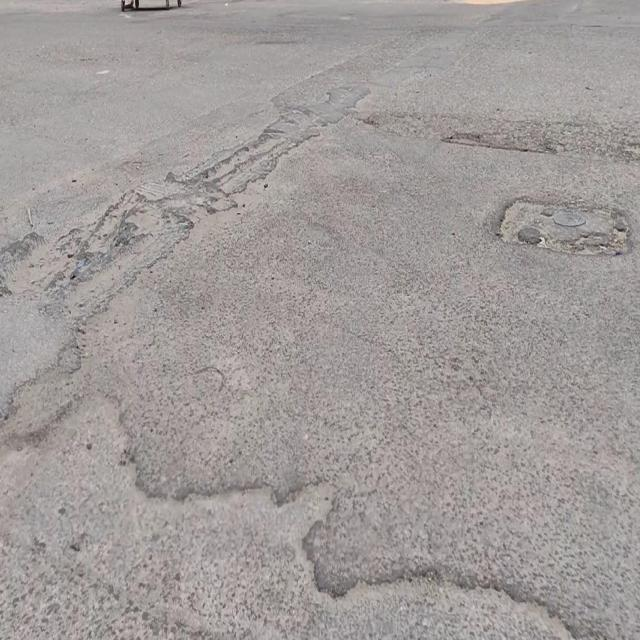Potholes: (495, 191, 630, 257)
